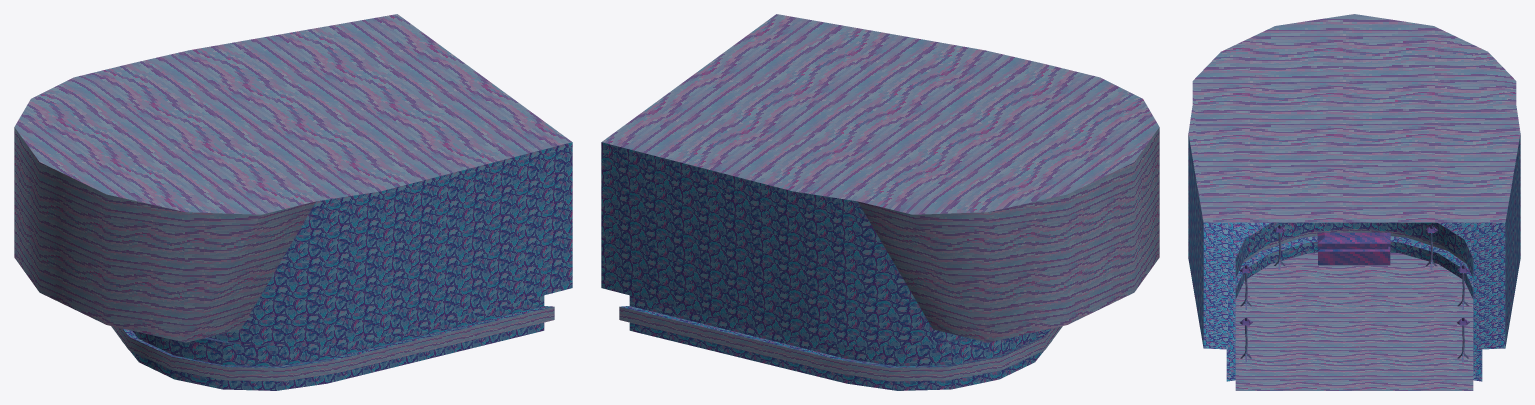
Rendered from testmap.glb.
The picture shows the model from 3 angles, left to right: view 1: azimuth 30°, elevation 25°; view 2: azimuth 150°, elevation 25°; view 3: azimuth 270°, elevation 25°; orthographic projection. The views are drawn at different scales.
Parts seen in each view (by area): view 1: roof, mainwall, topwall, backshelfwall; view 2: roof, mainwall, topwall, backshelfwall; view 3: roof, floorlow, mainwall, coffin, backshelfwall, lampbase.001, lamptop.006.
Boxes of the visible parts, x1,y1,x2,y2 form: roof: [14, 14, 572, 214]; mainwall: [123, 142, 572, 390]; topwall: [14, 127, 315, 342]; backshelfwall: [111, 306, 554, 381]; roof: [601, 14, 1159, 214]; mainwall: [601, 142, 1050, 390]; topwall: [858, 127, 1159, 342]; backshelfwall: [619, 306, 1062, 381]; roof: [1188, 14, 1520, 222]; floorlow: [1235, 252, 1473, 390]; mainwall: [1188, 133, 1520, 381]; coffin: [1317, 232, 1390, 265]; backshelfwall: [1243, 228, 1465, 263]; lampbase.001: [1240, 232, 1468, 362]; lamptop.006: [1239, 225, 1469, 325].
Bounding box in the file's own units: 93.51 × 45.09 × 70.02.
4 materials, 4 textured.
